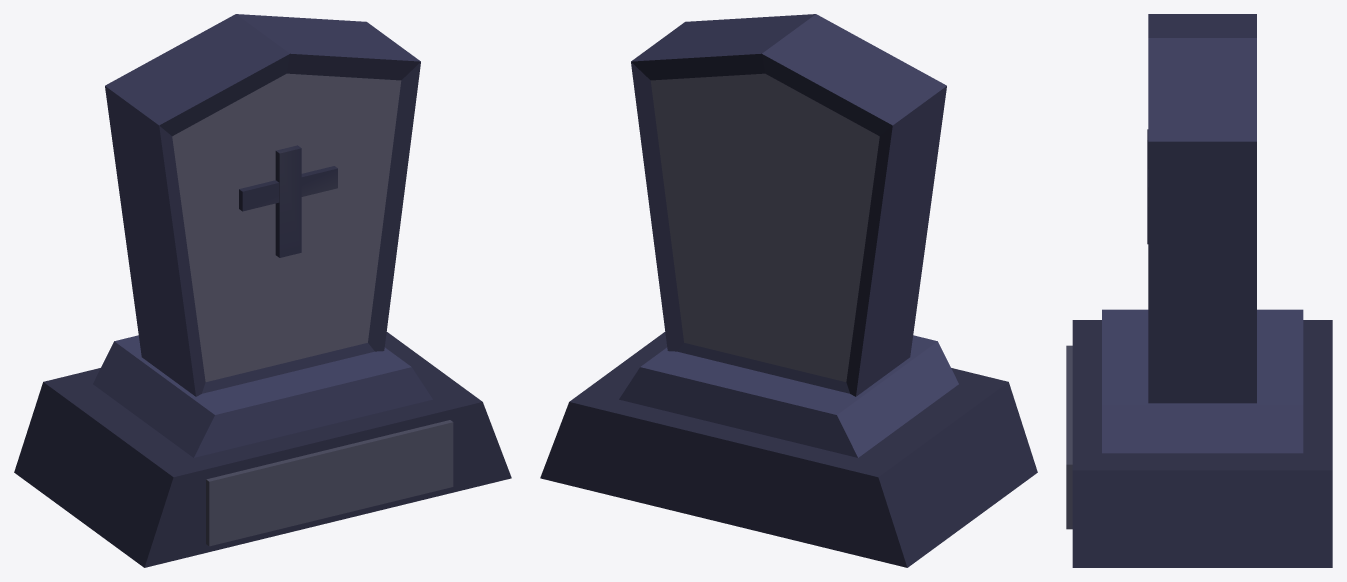
The model's file is Tombstone.fbx.
The picture shows the model from 3 angles, left to right: view 1: azimuth 30°, elevation 25°; view 2: azimuth 150°, elevation 25°; view 3: azimuth 270°, elevation 25°; orthographic projection.
Visible parts, largest first — view 1: LapideCenario; view 2: LapideCenario; view 3: LapideCenario.
Part boxes in pixels (x1,y1,x2,y2): LapideCenario: (14,14,511,567); LapideCenario: (540,14,1037,567); LapideCenario: (1066,14,1332,567).
Size of the model in its own units: 52.25 by 60 by 32.89.
